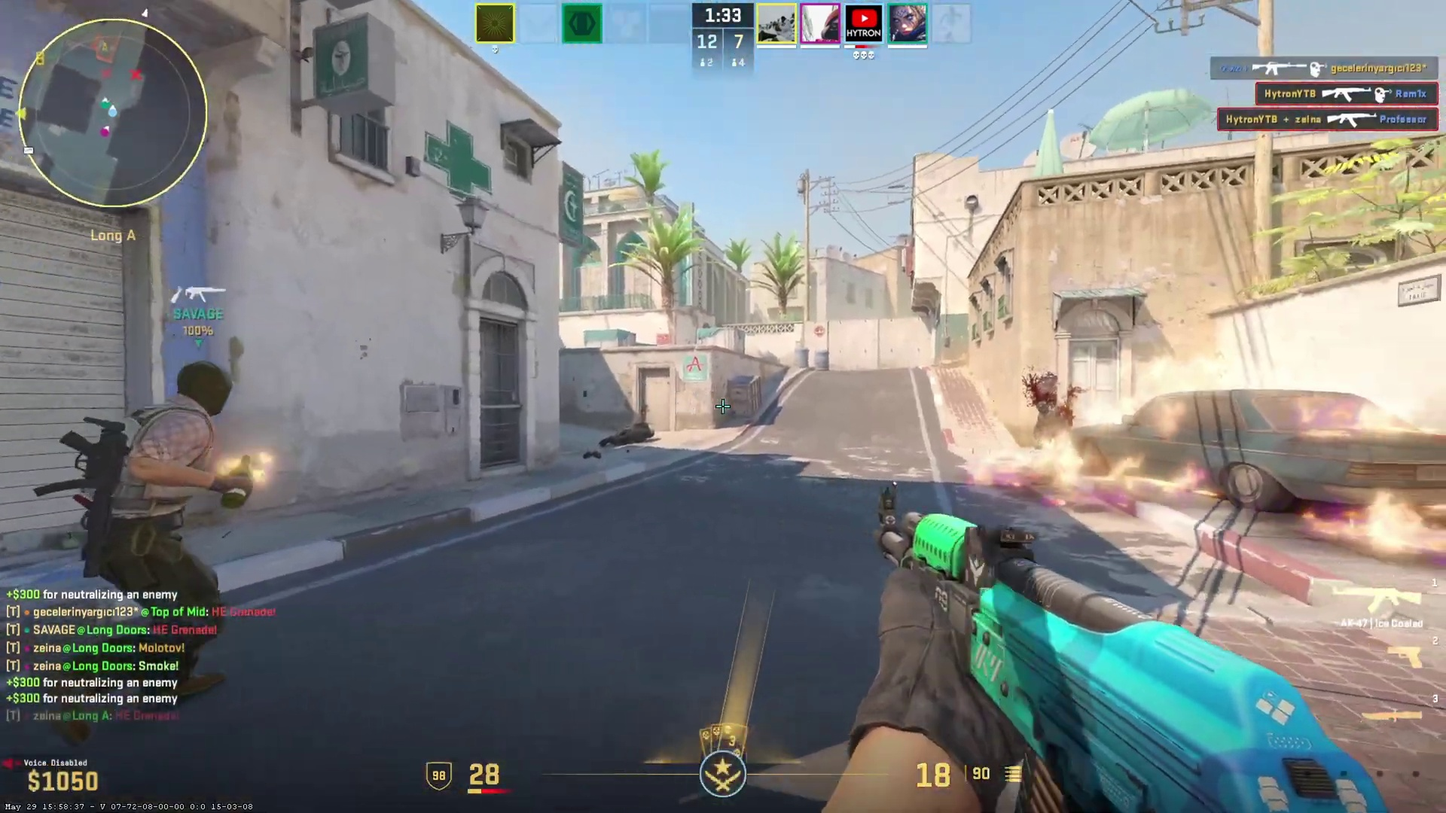Terrorist: (89, 359, 228, 713)
